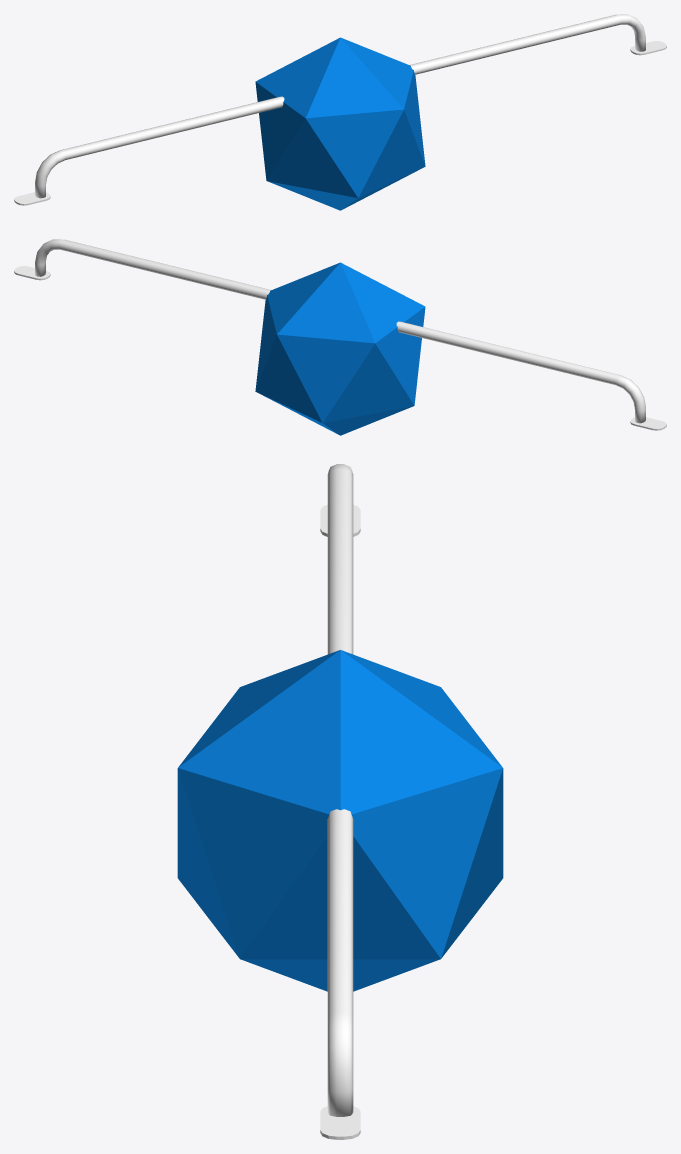
Rendered from Handrail.glb.
3 views of the same model, one above another, from view 1: azimuth 30°, elevation 25°; view 2: azimuth 150°, elevation 25°; view 3: azimuth 270°, elevation 25° (orthographic). The views are drawn at different scales.
Visible parts, largest first — view 1: Joint.032, Handrail; view 2: Joint.032, Handrail; view 3: Joint.032, Handrail.
Boxes of the visible parts, x1,y1,x2,y2 form: Joint.032: (255, 37, 425, 210); Handrail: (14, 14, 666, 205); Joint.032: (255, 262, 425, 435); Handrail: (14, 239, 666, 430); Joint.032: (177, 650, 503, 991); Handrail: (320, 464, 360, 1139).
Size of the model in its own units: 1.19 by 0.3048 by 0.2593.
